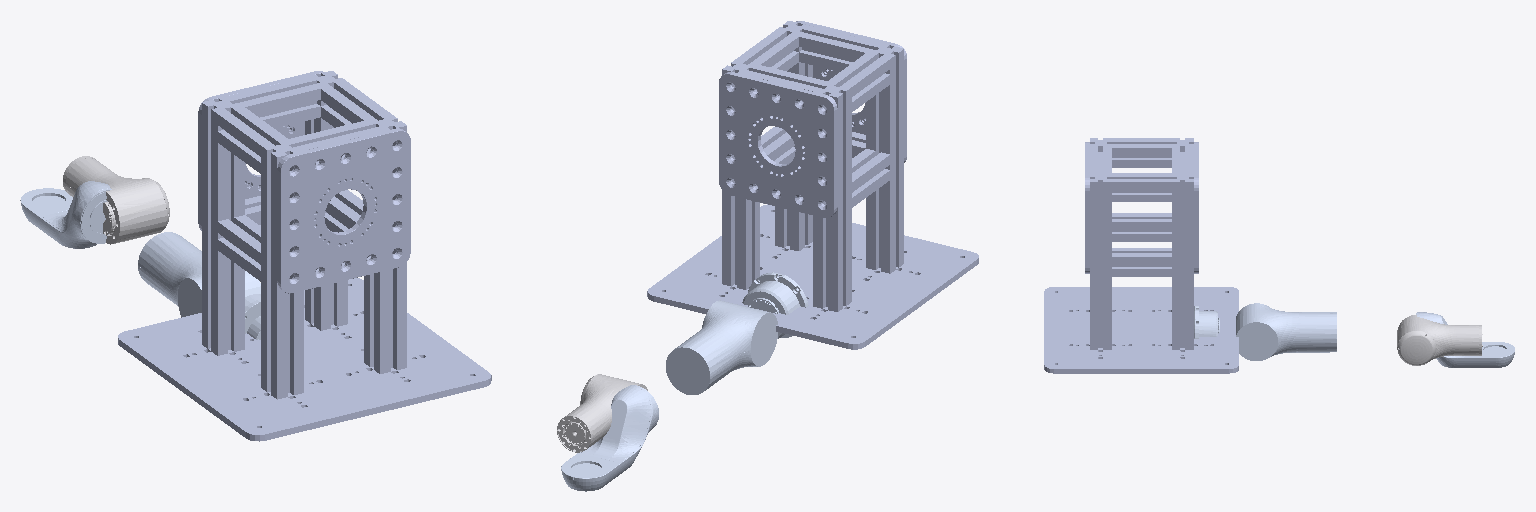
robot.urdf — taihu_arm_0430:
<?xml version="1.0" encoding="utf-8"?>
<!-- This URDF was automatically created by SolidWorks to URDF Exporter! Originally created by Stephen Brawner (brawner@gmail.com) 
     Commit Version: 1.6.0-4-g7f85cfe  Build Version: 1.6.7995.38578
     For more information, please see http://wiki.ros.org/sw_urdf_exporter -->
<robot
  name="taihu_arm_0430">
  <link
    name="base_link">
    <inertial>
      <origin
        xyz="-1.796E-05 6.0012E-06 -0.62307"
        rpy="0 0 0" />
      <mass
        value="8.6788" />
      <inertia
        ixx="0.27993"
        ixy="4.8177E-18"
        ixz="4.8851E-15"
        iyy="0.28183"
        iyz="-1.7321E-14"
        izz="0.043415" />
    </inertial>
    <visual>
      <origin
        xyz="0 0 0"
        rpy="0 0 0" />
      <geometry>
        <mesh
          filename="meshes/base_link.STL" />
      </geometry>
      <material
        name="">
        <color
          rgba="0.79216 0.81961 0.93333 1" />
      </material>
    </visual>
    <collision>
      <origin
        xyz="0 0 0"
        rpy="0 0 0" />
      <geometry>
        <mesh
          filename="meshes/base_link.STL" />
      </geometry>
    </collision>
  </link>
  <link
    name="left-link_arm_base">
    <inertial>
      <origin
        xyz="-2.277E-05 -3.5452E-06 0.010632"
        rpy="0 0 0" />
      <mass
        value="1.8275" />
      <inertia
        ixx="0.00066481"
        ixy="-6.0041E-08"
        ixz="-6.641E-07"
        iyy="0.00066593"
        iyz="-8.7702E-08"
        izz="0.00074477" />
    </inertial>
    <visual>
      <origin
        xyz="0 0 0"
        rpy="0 0 0" />
      <geometry>
        <mesh
          filename="meshes/left-link_arm_base.STL" />
      </geometry>
      <material
        name="">
        <color
          rgba="0.86667 0.9098 1 1" />
      </material>
    </visual>
    <collision>
      <origin
        xyz="0 0 0"
        rpy="0 0 0" />
      <geometry>
        <mesh
          filename="meshes/left-link_arm_base.STL" />
      </geometry>
    </collision>
  </link>
  <joint
    name="left-joint_arm_base"
    type="fixed">
    <origin
      xyz="0 0.108 0"
      rpy="-1.5708 0 0" />
    <parent
      link="base_link" />
    <child
      link="left-link_arm_base" />
    <axis
      xyz="0 0 0" />
  </joint>
  <link
    name="left-link_arm_1">
    <inertial>
      <origin
        xyz="1.2697E-05 0.001194 -0.0088192"
        rpy="0 0 0" />
      <mass
        value="0.71111" />
      <inertia
        ixx="0.00089531"
        ixy="-4.0887E-07"
        ixz="2.0284E-07"
        iyy="0.00095129"
        iyz="8.9792E-05"
        izz="0.00077837" />
    </inertial>
    <visual>
      <origin
        xyz="0 0 0"
        rpy="0 0 0" />
      <geometry>
        <mesh
          filename="meshes/left-link_arm_1.STL" />
      </geometry>
      <material
        name="">
        <color
          rgba="0.86667 0.9098 1 1" />
      </material>
    </visual>
    <collision>
      <origin
        xyz="0 0 0"
        rpy="0 0 0" />
      <geometry>
        <mesh
          filename="meshes/left-link_arm_1.STL" />
      </geometry>
    </collision>
  </link>
  <joint
    name="left-joint_arm_1"
    type="revolute">
    <origin
      xyz="0 0 0.128"
      rpy="0 0 -1.5708" />
    <parent
      link="left-link_arm_base" />
    <child
      link="left-link_arm_1" />
    <axis
      xyz="0 0 1" />
    <limit
      lower="-3.1"
      upper="3.1"
      effort="100"
      velocity="1" />
  </joint>
  <link
    name="left-link_arm_2">
    <inertial>
      <origin
        xyz="-4.0237E-06 0.088857 0.024138"
        rpy="0 0 0" />
      <mass
        value="2.2852" />
      <inertia
        ixx="0.0021125"
        ixy="-1.338E-07"
        ixz="-2.634E-08"
        iyy="0.00051326"
        iyz="0.00045225"
        izz="0.0021734" />
    </inertial>
    <visual>
      <origin
        xyz="0 0 0"
        rpy="0 0 0" />
      <geometry>
        <mesh
          filename="meshes/left-link_arm_2.STL" />
      </geometry>
      <material
        name="">
        <color
          rgba="0.86667 0.9098 1 1" />
      </material>
    </visual>
    <collision>
      <origin
        xyz="0 0 0"
        rpy="0 0 0" />
      <geometry>
        <mesh
          filename="meshes/left-link_arm_2.STL" />
      </geometry>
    </collision>
  </link>
  <joint
    name="left-joint_arm_2"
    type="revolute">
    <origin
      xyz="0 0 0"
      rpy="1.5708 0 0" />
    <parent
      link="left-link_arm_1" />
    <child
      link="left-link_arm_2" />
    <axis
      xyz="0 0 1" />
    <limit
      lower="-2.007"
      upper="2.007"
      effort="100"
      velocity="1" />
  </joint>
  <link
    name="left-link_arm_3">
    <inertial>
      <origin
        xyz="0.00035001 0.0021397 -0.036668"
        rpy="0 0 0" />
      <mass
        value="0.47386" />
      <inertia
        ixx="0.0011486"
        ixy="-4.0334E-07"
        ixz="-8.0327E-07"
        iyy="0.0010776"
        iyz="4.6286E-05"
        izz="0.00024811" />
    </inertial>
    <visual>
      <origin
        xyz="0 0 0"
        rpy="0 0 0" />
      <geometry>
        <mesh
          filename="meshes/left-link_arm_3.STL" />
      </geometry>
      <material
        name="">
        <color
          rgba="0.86667 0.9098 1 1" />
      </material>
    </visual>
    <collision>
      <origin
        xyz="0 0 0"
        rpy="0 0 0" />
      <geometry>
        <mesh
          filename="meshes/left-link_arm_3.STL" />
      </geometry>
    </collision>
  </link>
  <joint
    name="left-joint_arm_3"
    type="revolute">
    <origin
      xyz="0 0.329 0"
      rpy="-1.5708 0 0" />
    <parent
      link="left-link_arm_2" />
    <child
      link="left-link_arm_3" />
    <axis
      xyz="0 0 1" />
    <limit
      lower="-3.1"
      upper="3.1"
      effort="100"
      velocity="1" />
  </joint>
  <link
    name="left-link_arm_4">
    <inertial>
      <origin
        xyz="2.2909E-05 0.094944 0.019838"
        rpy="0 0 0" />
      <mass
        value="1.38429" />
      <inertia
        ixx="0.0014918"
        ixy="3.133E-07"
        ixz="1.0393E-07"
        iyy="0.00034865"
        iyz="0.0003108"
        izz="0.0014896" />
    </inertial>
    <visual>
      <origin
        xyz="0 0 0"
        rpy="0 0 0" />
      <geometry>
        <mesh
          filename="meshes/left-link_arm_4.STL" />
      </geometry>
      <material
        name="">
        <color
          rgba="0.8902 0.8902 0.91373 1" />
      </material>
    </visual>
    <collision>
      <origin
        xyz="0 0 0"
        rpy="0 0 0" />
      <geometry>
        <mesh
          filename="meshes/left-link_arm_4.STL" />
      </geometry>
    </collision>
  </link>
  <joint
    name="left-joint_arm_4"
    type="revolute">
    <origin
      xyz="0 0 0"
      rpy="1.5708 0 0" />
    <parent
      link="left-link_arm_3" />
    <child
      link="left-link_arm_4" />
    <axis
      xyz="0 0 1" />
    <limit
      lower="-2.53"
      upper="2.05"
      effort="100"
      velocity="1" />
  </joint>
  <link
    name="left-link_arm_5">
    <inertial>
      <origin
        xyz="0.00052226 0.0035059 -0.057368"
        rpy="0 0 0" />
      <mass
        value="0.3908" />
      <inertia
        ixx="0.00010308"
        ixy="4.47E-08"
        ixz="-1.5508E-08"
        iyy="0.00010344"
        iyz="3.6968E-06"
        izz="8.3821E-05" />
    </inertial>
    <visual>
      <origin
        xyz="0 0 0"
        rpy="0 0 0" />
      <geometry>
        <mesh
          filename="meshes/left-link_arm_5.STL" />
      </geometry>
      <material
        name="">
        <color
          rgba="0.8902 0.8902 0.91373 1" />
      </material>
    </visual>
    <collision>
      <origin
        xyz="0 0 0"
        rpy="0 0 0" />
      <geometry>
        <mesh
          filename="meshes/left-link_arm_5.STL" />
      </geometry>
    </collision>
  </link>
  <joint
    name="left-joint_arm_5"
    type="revolute">
    <origin
      xyz="0 0.2645 0"
      rpy="1.5708 -1.5708 3.1416" />
    <parent
      link="left-link_arm_4" />
    <child
      link="left-link_arm_5" />
    <axis
      xyz="0 0 1" />
    <limit
      lower="-3.1"
      upper="3.1"
      effort="100"
      velocity="1" />
  </joint>
  <link
    name="left-link_arm_6">
    <inertial>
      <origin
        xyz="-2.2487E-06 -0.010876 -0.00036603"
        rpy="0 0 0" />
      <mass
        value="0.298376" />
      <inertia
        ixx="3.082E-05"
        ixy="2.9603E-08"
        ixz="-2.2931E-09"
        iyy="2.8341E-05"
        iyz="-4.0543E-07"
        izz="3.051E-05" />
    </inertial>
    <visual>
      <origin
        xyz="0 0 0"
        rpy="0 0 0" />
      <geometry>
        <mesh
          filename="meshes/left-link_arm_6.STL" />
      </geometry>
      <material
        name="">
        <color
          rgba="0.79216 0.81961 0.93333 1" />
      </material>
    </visual>
    <collision>
      <origin
        xyz="0 0 0"
        rpy="0 0 0" />
      <geometry>
        <mesh
          filename="meshes/left-link_arm_6.STL" />
      </geometry>
    </collision>
  </link>
  <joint
    name="left-joint_arm_6"
    type="revolute">
    <origin
      xyz="0 0 0"
      rpy="1.5708 -1.5708 0" />
    <parent
      link="left-link_arm_5" />
    <child
      link="left-link_arm_6" />
    <axis
      xyz="0 0 1" />
    <limit
      lower="-0.69"
      upper="0.69"
      effort="100"
      velocity="1" />
  </joint>

  <link
    name="left-link_arm_7">
    <inertial>
      <origin
        xyz="1.6729E-06 0.010082 -0.013139"
        rpy="0 0 0" />
      <mass
        value="0.027272" />
      <inertia
        ixx="1.1686E-05"
        ixy="5.5819E-10"
        ixz="-2.5012E-11"
        iyy="8.5763E-06"
        iyz="-3.4659E-06"
        izz="1.1784E-05" />
    </inertial>
    <visual>
      <origin
        xyz="0 0 0"
        rpy="0 0 0" />
      <geometry>
        <mesh
          filename="meshes/left-link_arm_7.STL" />
      </geometry>
      <material
        name="">
        <color
          rgba="1 1 0.75294 1" />
      </material>
    </visual>
    <collision>
      <origin
        xyz="0 0 0"
        rpy="0 0 0" />
      <geometry>
        <mesh
          filename="meshes/left-link_arm_7.STL" />
      </geometry>
    </collision>
  </link>

  <joint
    name="left-joint_arm_7"
    type="revolute">
    <origin
      xyz="0 0 0"
      rpy="1.5708 1.5708 0" />
    <parent
      link="left-link_arm_6" />
    <child
      link="left-link_arm_7" />
    <axis
      xyz="0 0 1" />
    <limit
      lower="-1.39"
      upper="1.39"
      effort="100"
      velocity="1" />
  </joint>

  <link
    name="left-link_gripper_base">
    <inertial>
      <origin
        xyz="-0.0010556 4.8489E-05 0.090559"
        rpy="0 0 0" />
      <mass
        value="0.85687" />
      <inertia
        ixx="0.00011118"
        ixy="2.7529E-06"
        ixz="1.1709E-06"
        iyy="0.00025447"
        iyz="-4.1104E-07"
        izz="0.00024307" />
    </inertial>
    <visual>
      <origin
        xyz="0 0 0"
        rpy="0 0 0" />
      <geometry>
        <mesh
          filename="meshes/left-link_gripper_base.STL" />
      </geometry>
      <material
        name="">
        <color
          rgba="0.79216 0.81961 0.93333 1" />
      </material>
    </visual>
    <collision>
      <origin
        xyz="0 0 0"
        rpy="0 0 0" />
      <geometry>
        <mesh
          filename="meshes/left-link_gripper_base.STL" />
      </geometry>
    </collision>
  </link>
  
  <joint
    name="left-joint_gripper_base"
    type="fixed">
    <origin
      xyz="0 0 0"
      rpy="-1.5708 1.5708 0" />
    <parent
      link="left-link_arm_7" />
    <child
      link="left-link_gripper_base" />
    <axis
      xyz="0 0 0" />
    <limit
      lower="0"
      upper="0"
      effort="0"
      velocity="0" />
  </joint>

  
</robot>

--- What the picture shows (computed from the rendered views, not written in the file) ---
The picture shows the robot from 3 angles, left to right: view 1: azimuth 30°, elevation 25°; view 2: azimuth 150°, elevation 25°; view 3: azimuth 270°, elevation 25°; orthographic projection.
Model taihu_arm_0430 with 10 links and 9 joints (7 revolute, 2 fixed), rooted at base_link, posed every joint at zero.
Links seen in each view (by area): view 1: base_link, left-link_arm_4, left-link_arm_3, left-link_arm_2, left-link_arm_base; view 2: base_link, left-link_arm_2, left-link_arm_3, left-link_arm_4, left-link_arm_base; view 3: base_link, left-link_arm_2, left-link_arm_4, left-link_arm_3, left-link_arm_base.
Boxes of the visible links, left/top/right/bottom form: base_link: left=118, top=71, right=491, bottom=441; left-link_arm_4: left=63, top=156, right=169, bottom=244; left-link_arm_3: left=20, top=181, right=111, bottom=248; left-link_arm_2: left=138, top=232, right=260, bottom=317; left-link_arm_base: left=245, top=294, right=260, bottom=339; base_link: left=647, top=21, right=978, bottom=349; left-link_arm_2: left=666, top=300, right=777, bottom=394; left-link_arm_3: left=561, top=385, right=658, bottom=491; left-link_arm_4: left=557, top=374, right=647, bottom=452; left-link_arm_base: left=742, top=272, right=808, bottom=338; base_link: left=1044, top=138, right=1238, bottom=373; left-link_arm_2: left=1236, top=303, right=1336, bottom=360; left-link_arm_4: left=1397, top=315, right=1482, bottom=365; left-link_arm_3: left=1416, top=312, right=1514, bottom=367; left-link_arm_base: left=1194, top=306, right=1219, bottom=338.
Size in the robot's own frame: 0.4 by 0.9679 by 0.4605 metres.
5 mesh visuals loaded from 10 distinct referenced files (5 binary STL); not drawn: 5 (reference not matched to a file when rendering).
